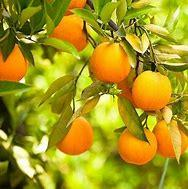orange: (109, 126, 188, 171), (126, 64, 173, 109), (88, 46, 138, 87), (44, 114, 96, 153), (41, 10, 91, 47), (2, 40, 37, 81), (158, 119, 185, 154)
